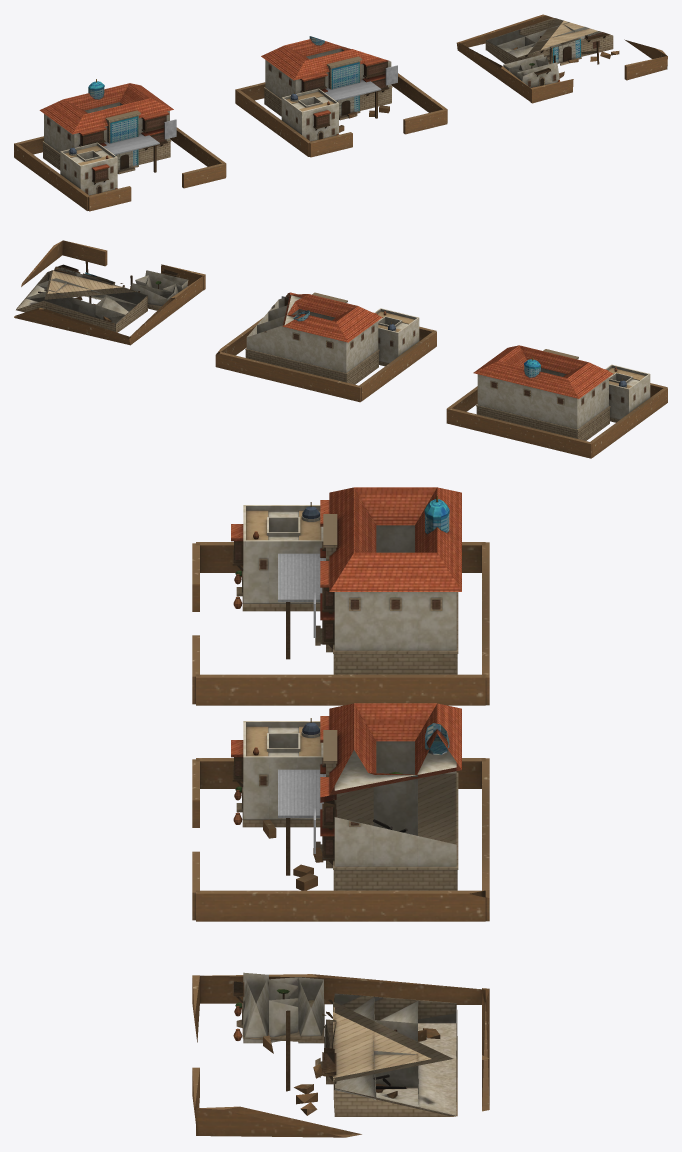
File: civic-gunpowder-levant.glb
The picture shows the model from 3 angles, top to bottom: view 1: azimuth 30°, elevation 25°; view 2: azimuth 150°, elevation 25°; view 3: azimuth 270°, elevation 25°; orthographic projection. The views are drawn at different scales.
Parts seen in each view (by area): view 1: LOD0, LOD0.001, LOD0.002; view 2: LOD0, LOD0.001, LOD0.002; view 3: LOD0.001, LOD0, LOD0.002.
Boxes of the visible parts, x1,y1,x2,y2 form: LOD0: (14,79,226,211); LOD0.001: (235,36,447,157); LOD0.002: (456,14,667,103); LOD0: (446,345,667,458); LOD0.001: (215,292,436,402); LOD0.002: (14,240,205,345); LOD0.001: (192,703,489,921); LOD0: (192,487,489,705); LOD0.002: (192,972,489,1137).
Size of what is drawn, in the model's own units: 7.89 by 0.92 by 1.74.
Materials: 2 (2 with a texture image).
